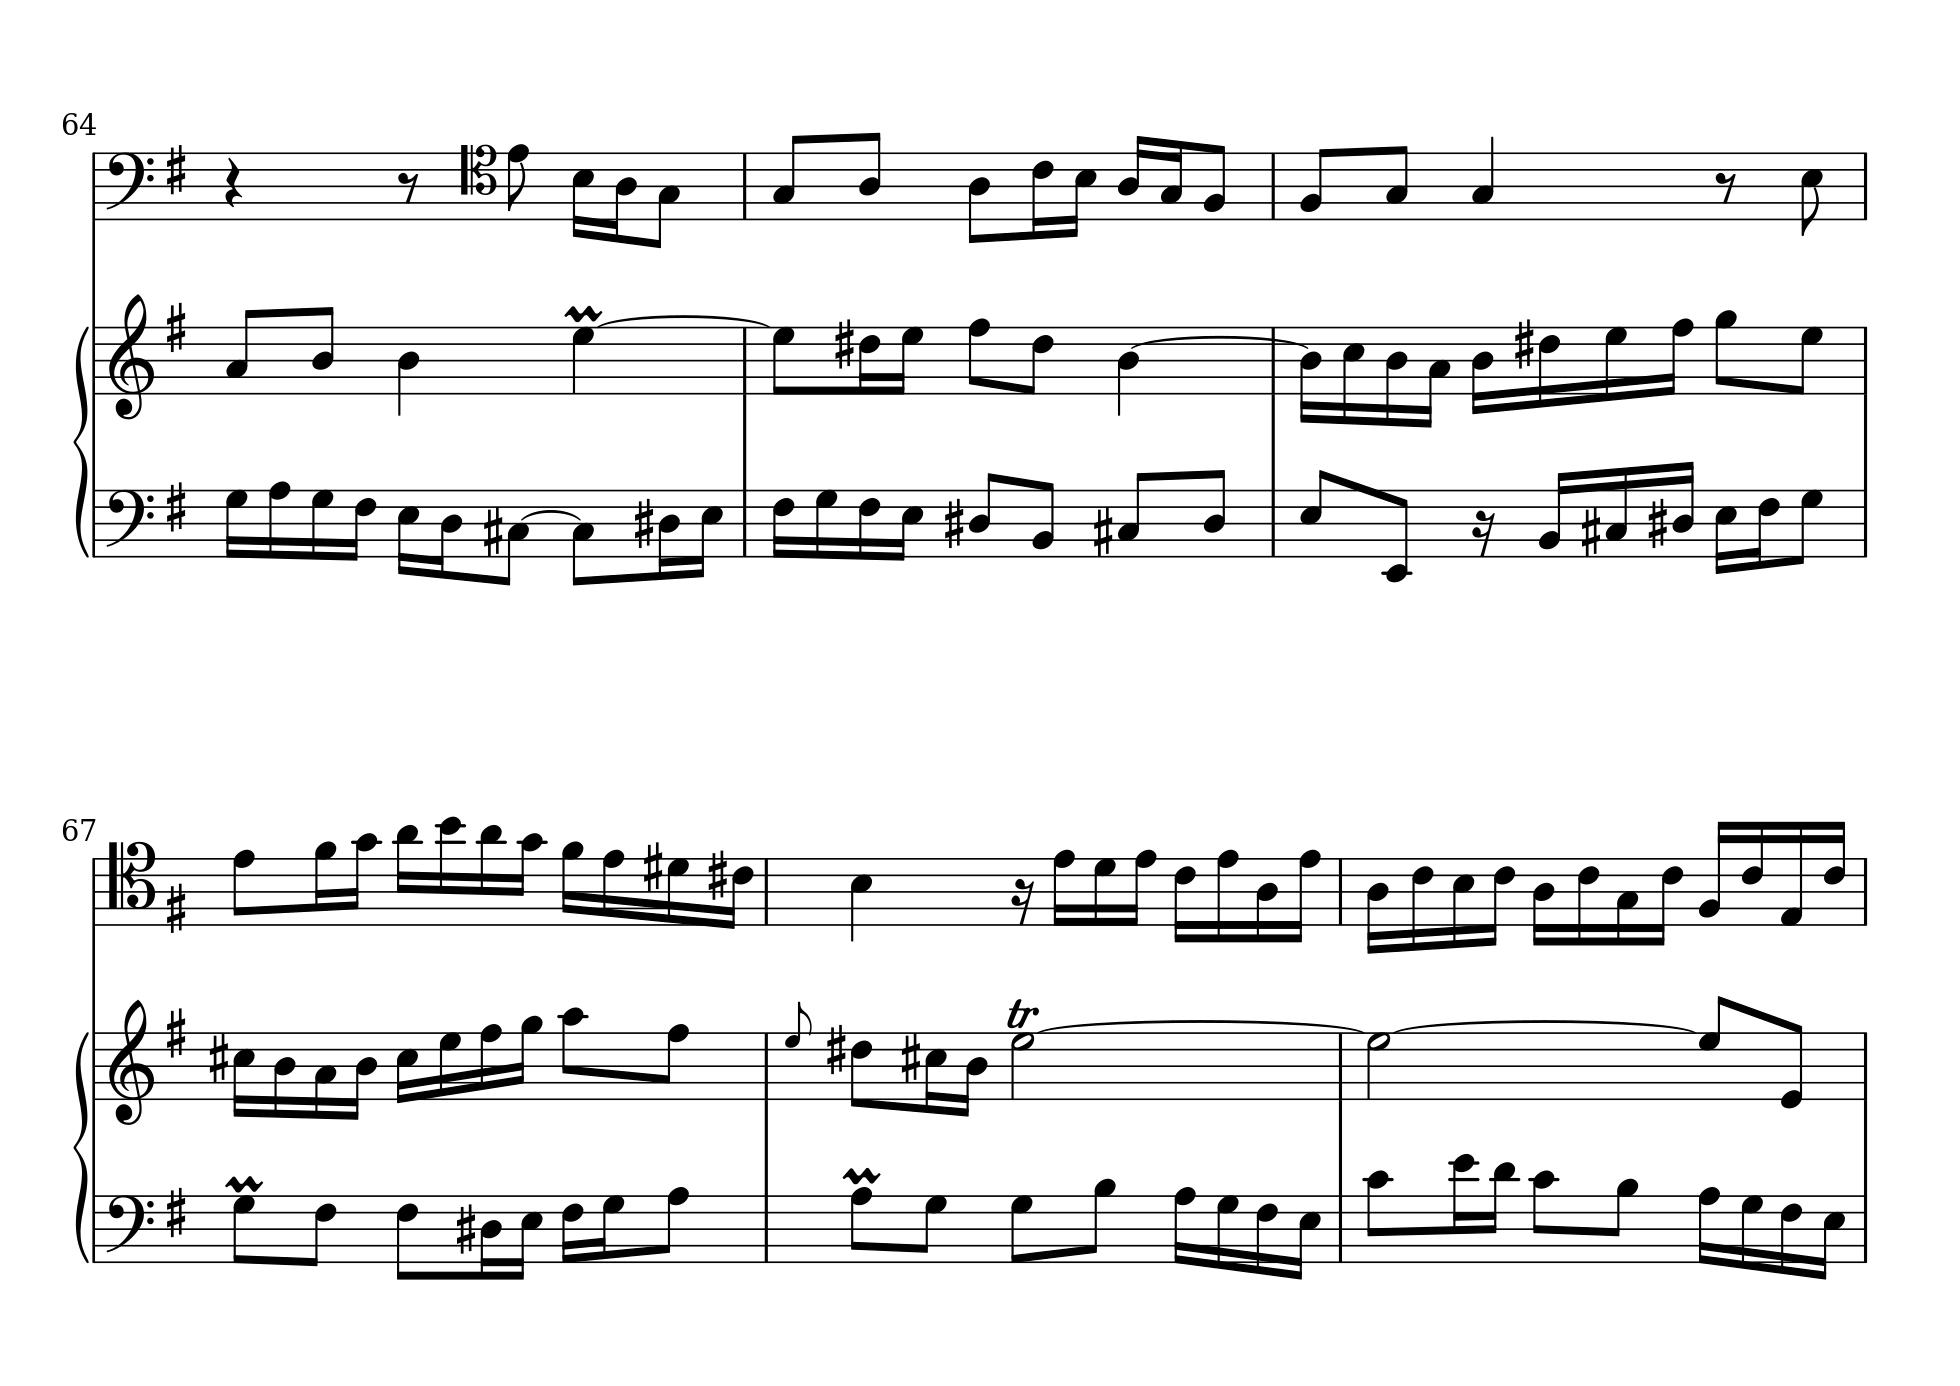16_1: (1779, 819, 1804, 928)
16_10: (513, 831, 547, 928), (346, 832, 381, 928)
16_11: (1483, 1159, 1518, 1264), (391, 822, 421, 927), (475, 823, 505, 928)
16_12: (1449, 1152, 1479, 1264), (435, 814, 463, 927)
16_2: (1696, 819, 1729, 927), (1536, 469, 1569, 559)
16_3: (1420, 325, 1452, 430), (310, 1030, 337, 1120), (1614, 856, 1639, 948), (1605, 465, 1629, 559), (1159, 138, 1185, 220)
16_4: (430, 487, 463, 580), (346, 1030, 379, 1120), (607, 150, 637, 244), (1117, 133, 1149, 222), (1383, 324, 1408, 427), (958, 1030, 988, 1117), (1365, 853, 1390, 955), (1671, 459, 1696, 559), (1530, 855, 1557, 948), (271, 1029, 298, 1119), (1299, 324, 1323, 424), (1254, 855, 1279, 943), (657, 487, 681, 580), (1470, 324, 1494, 415), (478, 1192, 502, 1281)
16_5: (691, 487, 724, 577), (1290, 1192, 1323, 1279), (1066, 150, 1098, 238), (511, 1192, 543, 1281), (1815, 1192, 1846, 1279), (1341, 322, 1365, 426), (892, 487, 925, 562), (1450, 855, 1476, 949), (570, 148, 595, 238), (394, 487, 420, 577), (231, 1029, 256, 1119), (1713, 487, 1738, 574), (922, 1030, 946, 1114), (394, 1030, 418, 1105)
16_6: (1482, 855, 1516, 946), (1650, 855, 1684, 946), (1740, 819, 1767, 927), (1822, 817, 1848, 928), (1749, 486, 1780, 570), (1410, 853, 1435, 952), (1575, 855, 1602, 946), (1030, 148, 1056, 241), (345, 487, 376, 562), (724, 855, 754, 931), (1254, 1192, 1279, 1276), (1173, 855, 1197, 943), (1537, 324, 1561, 409), (1779, 1192, 1803, 1276), (856, 487, 882, 562), (771, 487, 796, 559), (559, 1192, 585, 1264), (856, 325, 880, 397)
16_7: (892, 324, 924, 397), (594, 1192, 625, 1264), (1602, 322, 1629, 405), (1738, 1191, 1764, 1273), (307, 487, 334, 562), (811, 487, 838, 561), (1215, 1191, 1239, 1273), (664, 855, 690, 928), (1092, 855, 1117, 928), (436, 1029, 462, 1102), (223, 487, 247, 559)
16_8: (1287, 847, 1321, 943), (1660, 316, 1693, 397), (1125, 847, 1158, 927), (1215, 847, 1240, 945), (265, 478, 291, 561), (600, 847, 625, 928), (1051, 847, 1077, 928), (477, 1021, 502, 1102), (1696, 1185, 1722, 1266), (1173, 1185, 1197, 1266)
16_9: (510, 1014, 544, 1102), (312, 838, 337, 928), (559, 838, 583, 928)
2_7: (1008, 1030, 1035, 1102), (1365, 1030, 1392, 1102)
4: (79, 109, 97, 136)
4_3: (1470, 135, 1497, 222)
4_4: (394, 325, 420, 417), (1116, 325, 1140, 417)
4_5: (847, 855, 874, 943)
4_7: (570, 325, 595, 394)
6: (61, 816, 79, 841), (61, 109, 78, 136)
7: (79, 814, 97, 843)
8_-2: (1383, 487, 1413, 582)
8_0: (1779, 1020, 1806, 1110)
8_10: (558, 1006, 586, 1102), (1363, 1168, 1392, 1264), (1530, 1168, 1557, 1264)
8_2: (1299, 145, 1332, 222), (1030, 478, 1057, 559), (1203, 142, 1227, 222)
8_3: (649, 150, 682, 250), (771, 133, 805, 223), (1117, 469, 1152, 559), (225, 307, 259, 396), (499, 489, 529, 586), (570, 487, 595, 586), (1384, 142, 1410, 222)
8_4: (967, 471, 1000, 558), (1201, 466, 1228, 559), (856, 130, 883, 222), (966, 150, 991, 246), (310, 304, 334, 396)
8_5: (1299, 466, 1332, 559), (1798, 150, 1824, 237)
8_6: (301, 1192, 337, 1267), (394, 1192, 420, 1282), (1023, 325, 1054, 396), (849, 1030, 874, 1110)
8_7: (1698, 993, 1728, 1101), (1791, 486, 1824, 565), (1791, 324, 1824, 396), (915, 1194, 948, 1263), (229, 1192, 258, 1264), (769, 324, 796, 397), (1008, 1192, 1035, 1264)
8_8: (657, 1021, 690, 1102), (655, 1183, 688, 1264), (847, 1185, 874, 1264), (966, 316, 991, 396), (231, 847, 256, 927), (505, 142, 529, 222)
8_9: (1084, 1177, 1116, 1264), (1606, 1177, 1638, 1264), (1713, 307, 1737, 396)
Brace: (72, 322, 91, 556), (72, 1030, 91, 1263)
Fclef: (100, 148, 154, 220), (103, 1192, 156, 1264), (102, 486, 154, 555)
Gclef: (105, 996, 157, 1128), (106, 292, 154, 420)
Rests16: (1471, 508, 1497, 558), (1011, 877, 1035, 927)
Rests4: (223, 154, 243, 208)
Rests8: (396, 169, 420, 204), (1714, 169, 1738, 202)
Sharp: (162, 1183, 190, 1240), (162, 142, 189, 196), (163, 298, 190, 352), (163, 1005, 189, 1060), (163, 880, 189, 934), (163, 478, 187, 534), (823, 1021, 847, 1077), (631, 496, 655, 550), (205, 1030, 229, 1084), (898, 1030, 922, 1084), (640, 841, 664, 894), (832, 316, 855, 372), (1513, 316, 1536, 370), (942, 496, 964, 550), (706, 847, 729, 901), (480, 505, 502, 558), (1579, 505, 1602, 558), (1647, 496, 1668, 550), (454, 1201, 475, 1255), (1092, 505, 1113, 558)
ShortTrill: (223, 1173, 265, 1192), (562, 303, 603, 322), (841, 1164, 882, 1183)
Single_barline: (1857, 151, 1875, 220), (1266, 487, 1284, 556), (1266, 327, 1284, 394), (735, 489, 753, 556), (757, 1194, 775, 1261), (1332, 1194, 1350, 1261), (1332, 858, 1350, 924), (1332, 1033, 1350, 1099), (736, 328, 754, 393), (757, 1033, 775, 1098), (1857, 325, 1873, 394), (1857, 856, 1873, 925), (736, 151, 753, 219), (757, 856, 774, 924), (1266, 151, 1282, 217), (1857, 490, 1873, 556), (1857, 1032, 1873, 1098), (1857, 1195, 1873, 1261), (87, 151, 102, 220), (87, 858, 102, 922), (88, 325, 102, 394), (88, 1032, 102, 1099), (88, 1194, 102, 1261), (88, 490, 102, 556)
Slur: (1036, 1018, 1371, 1033), (1389, 1018, 1698, 1032), (520, 508, 582, 520)
Tensor_Cclef: (106, 838, 157, 925), (457, 142, 496, 220)
Trill: (1005, 994, 1041, 1030)
